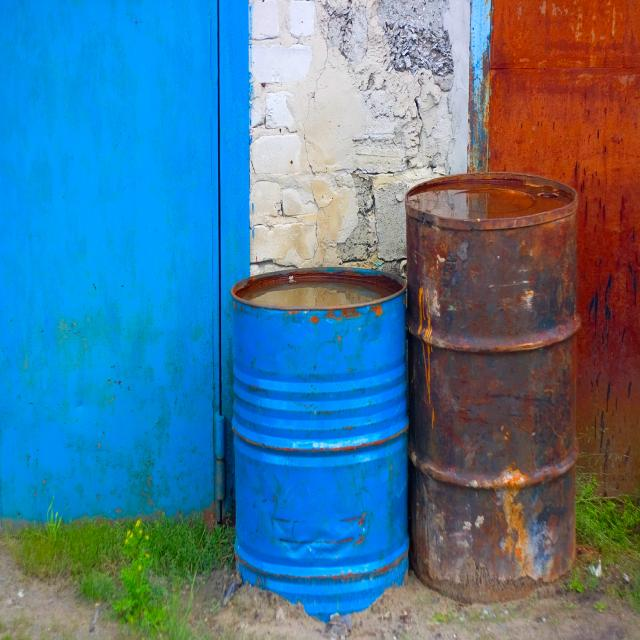metal: (229, 254, 412, 595), (426, 182, 575, 574)
